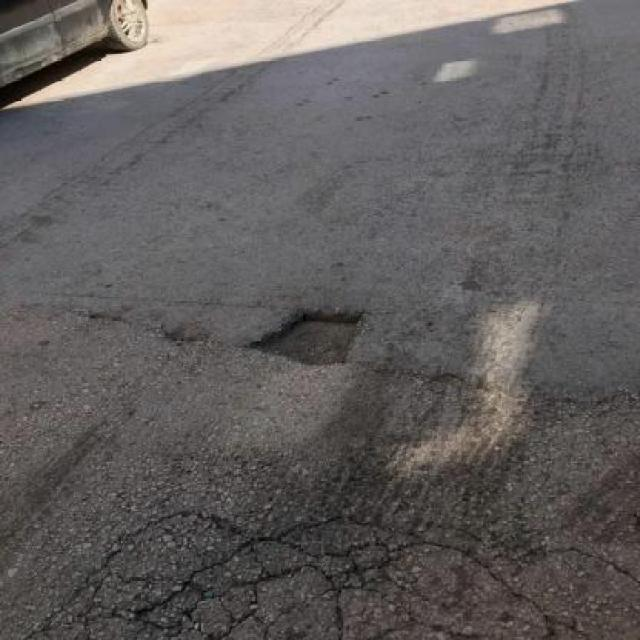pothole: (242, 312, 365, 368)
